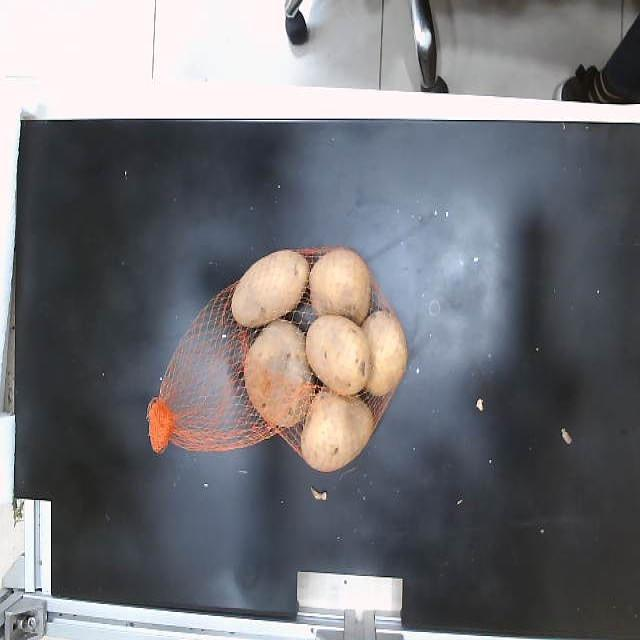potato: (244, 318, 312, 427), (231, 250, 309, 328), (301, 392, 374, 471), (306, 317, 370, 395), (309, 248, 371, 324), (362, 310, 408, 396)
